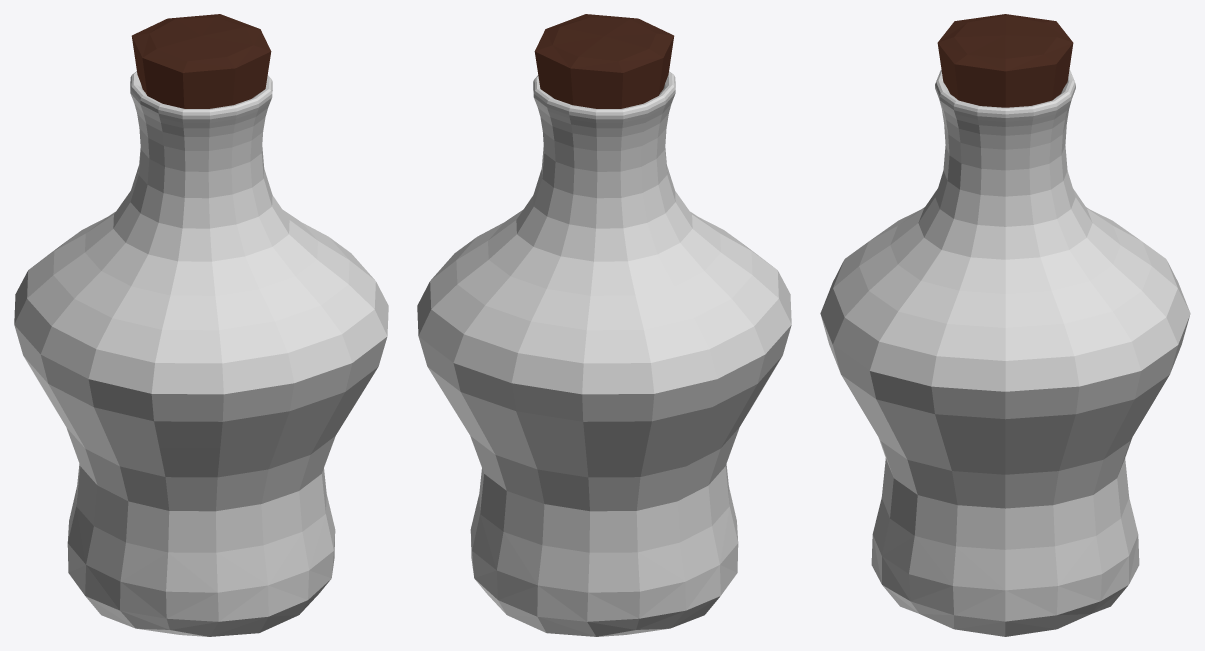
The model's file is potion3_filled.glb.
3 renders of one model, left to right at view 1: azimuth 30°, elevation 25°; view 2: azimuth 150°, elevation 25°; view 3: azimuth 270°, elevation 25°, orthographic.
Parts seen in each view (by area): view 1: Potion3_Filled; view 2: Potion3_Filled; view 3: Potion3_Filled.
Part boxes in pixels (<box>): Potion3_Filled: <box>14,14,388,636</box>; Potion3_Filled: <box>417,14,791,636</box>; Potion3_Filled: <box>820,14,1190,636</box>.
Size of the model in its own units: 71.87 by 122 by 71.87.
